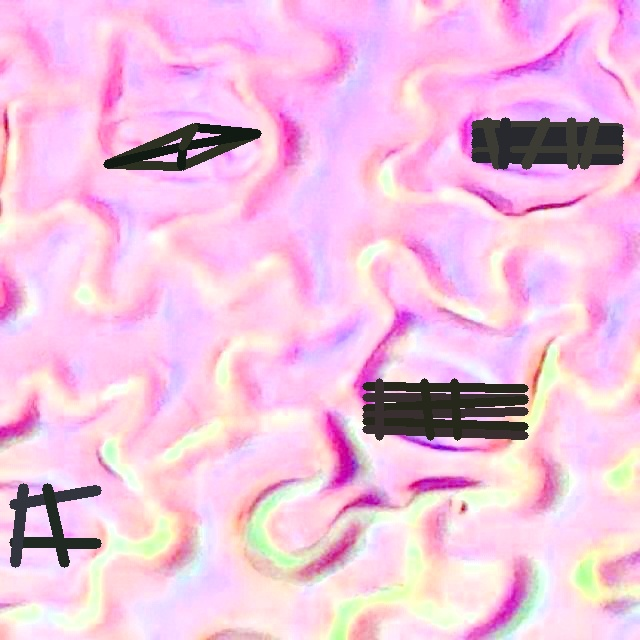close: (363, 378, 528, 440), (471, 118, 623, 169), (103, 123, 261, 170)
open: (9, 484, 100, 567)
